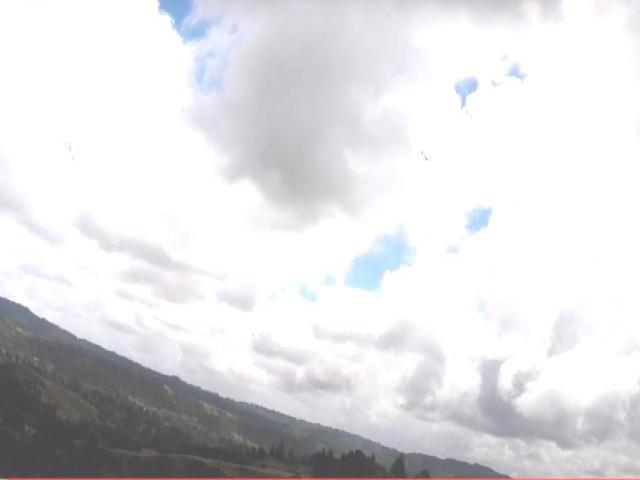iha: (420, 148, 430, 165)
